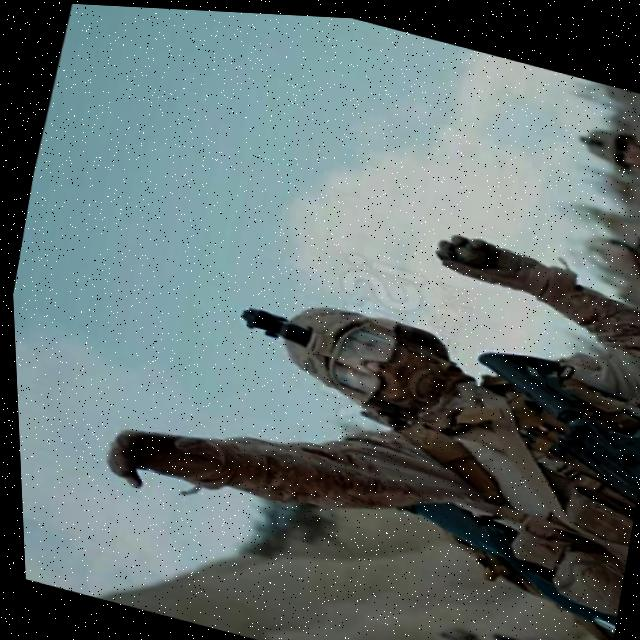grenade: (426, 222, 496, 277)
